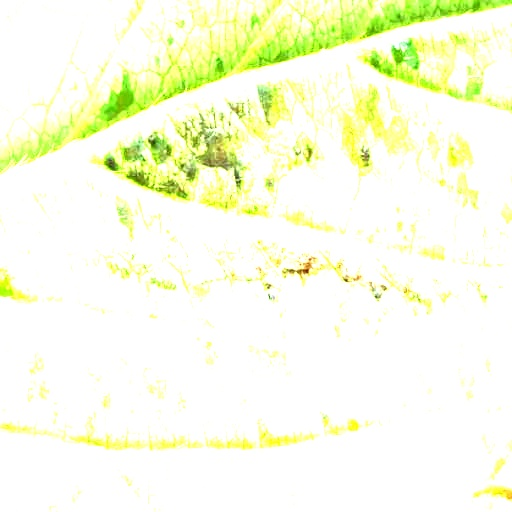Angular Leafspot: (0, 0, 511, 511)
